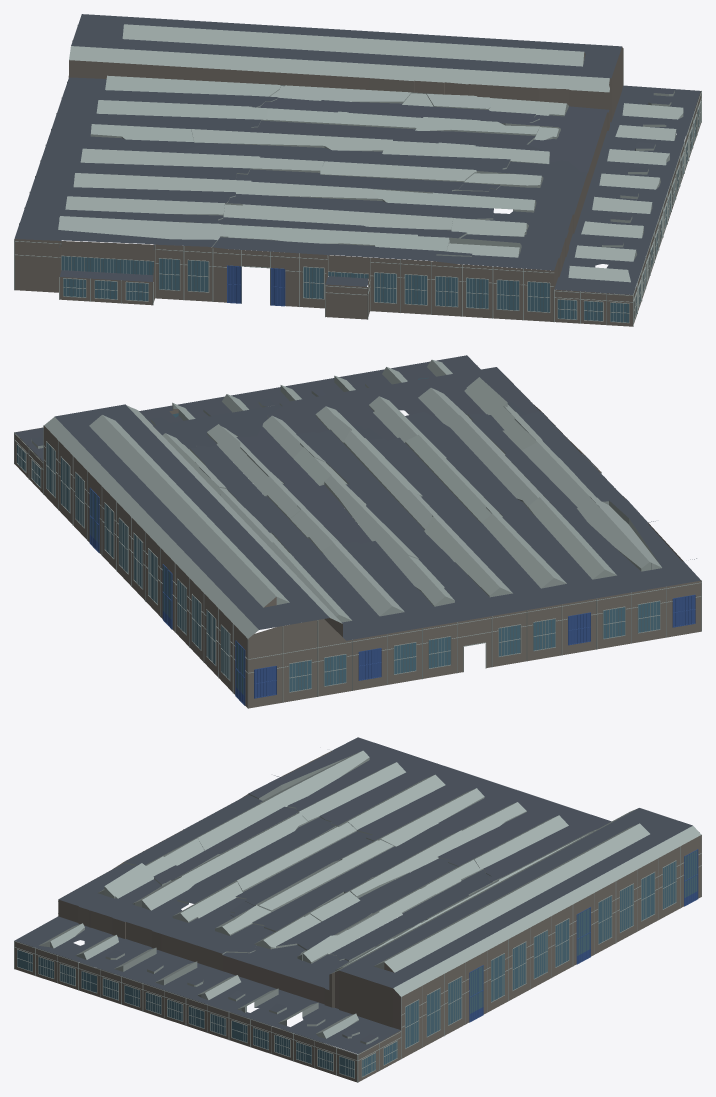
Rendered from ndsm-warehouse-complex.glb.
3 views of the same model, one above another, from view 1: azimuth 30°, elevation 25°; view 2: azimuth 150°, elevation 25°; view 3: azimuth 270°, elevation 25° (orthographic). The views are drawn at different scales.
Parts seen in each view (by area): view 1: ndsm-warehouse-complex; view 2: ndsm-warehouse-complex; view 3: ndsm-warehouse-complex.
Part boxes in pixels (x1,y1,x2,y2): ndsm-warehouse-complex: (14,14,701,326); ndsm-warehouse-complex: (14,355,701,708); ndsm-warehouse-complex: (14,737,701,1082).
Bounding box in the file's own units: 205 × 24.28 × 198.
